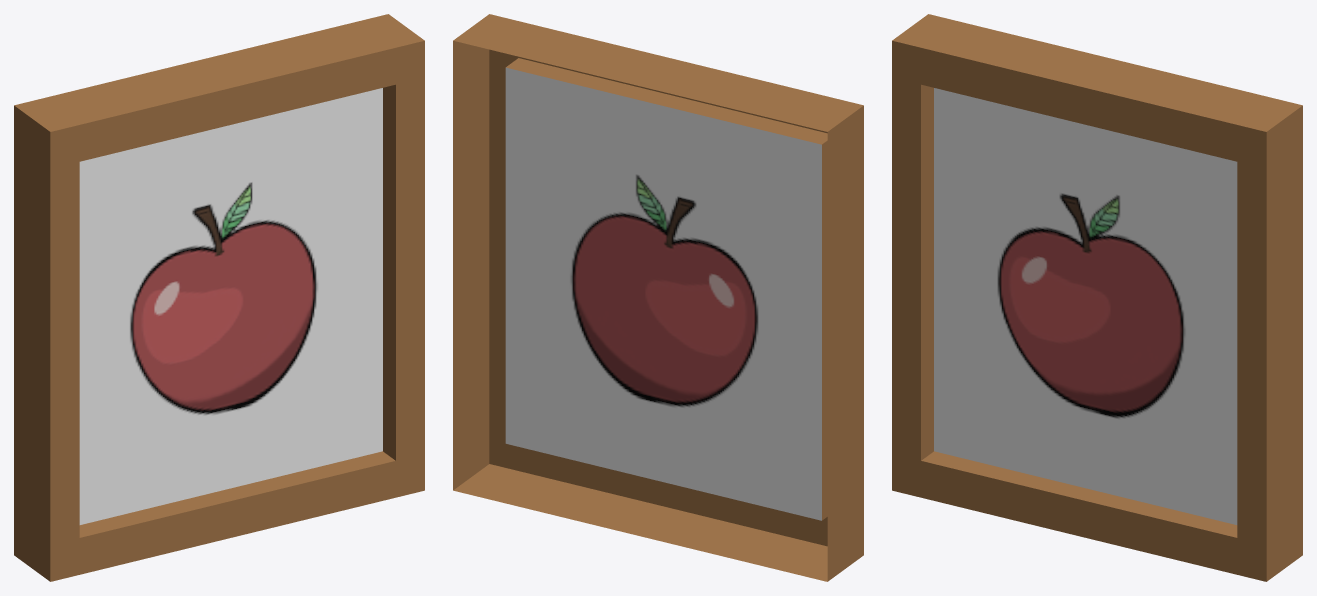
File: Apple painting.fbx
3 views of the same model, side by side, from view 1: azimuth 30°, elevation 25°; view 2: azimuth 150°, elevation 25°; view 3: azimuth 330°, elevation 25° (orthographic).
Visible parts, largest first — view 1: Apple painting; view 2: Apple painting; view 3: Apple painting.
Boxes of the visible parts, x1,y1,x2,y2 form: Apple painting: (14, 14, 424, 581); Apple painting: (453, 14, 863, 581); Apple painting: (892, 14, 1302, 581).
Size of the model in its own units: 34.69 by 39.83 by 5.85.
